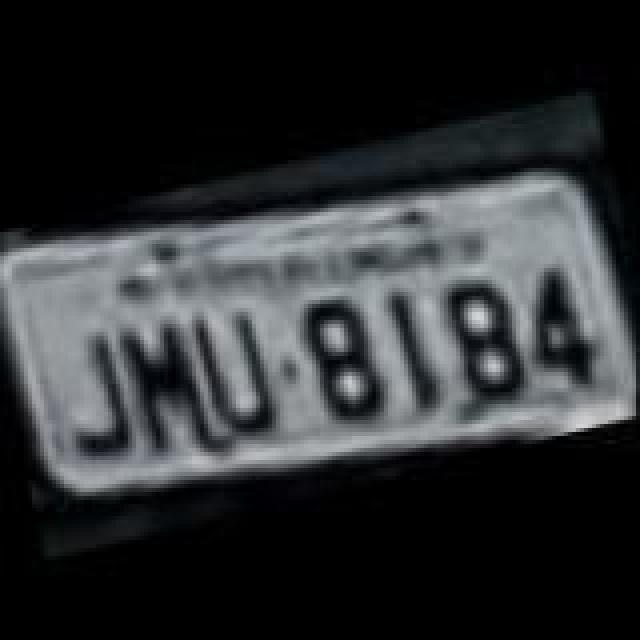1: (374, 278, 446, 414)
4: (506, 250, 610, 398)
8: (294, 284, 398, 432), (434, 266, 538, 410)
J: (46, 324, 142, 460)
M: (114, 310, 218, 458)
U: (186, 296, 290, 452)
